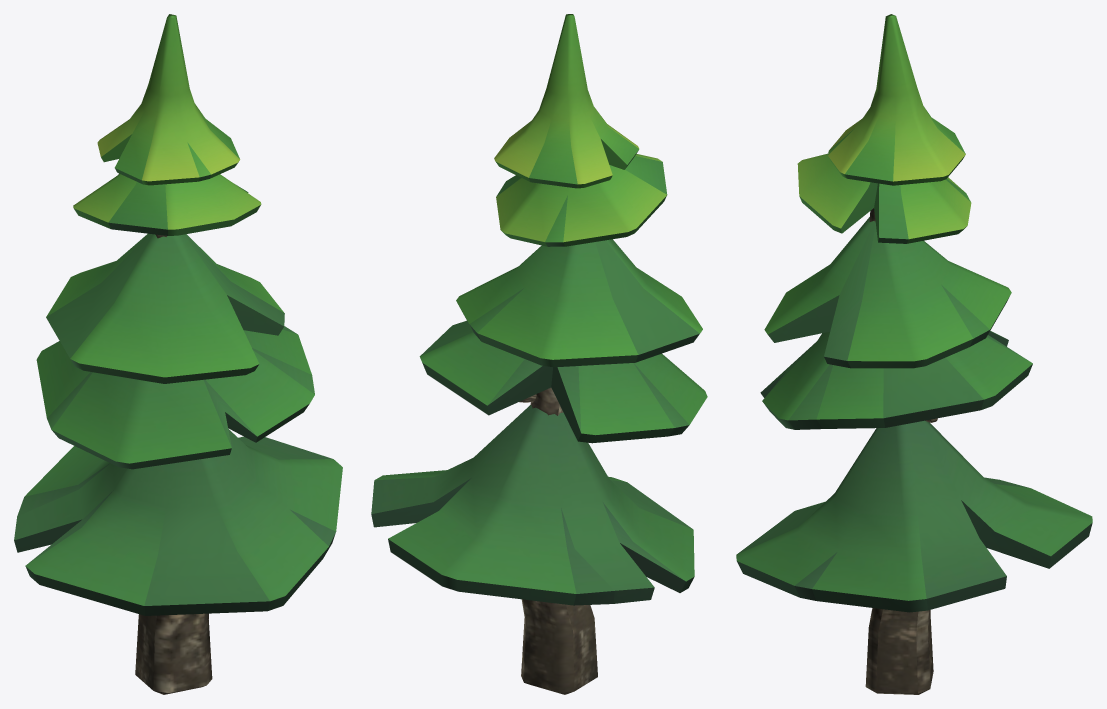
The model's file is pine_tree_02.fbx.
3 renders of one model, left to right at view 1: azimuth 30°, elevation 25°; view 2: azimuth 150°, elevation 25°; view 3: azimuth 270°, elevation 25°, orthographic.
Visible parts, largest first — view 1: tree_pine_SC_04; view 2: tree_pine_SC_04; view 3: tree_pine_SC_04.
Boxes of the visible parts, left/top/right/bottom form: tree_pine_SC_04: left=14, top=14, right=342, bottom=694; tree_pine_SC_04: left=371, top=14, right=707, bottom=694; tree_pine_SC_04: left=736, top=14, right=1092, bottom=694.
Bounding box in the file's own units: 264 × 543 × 263.
